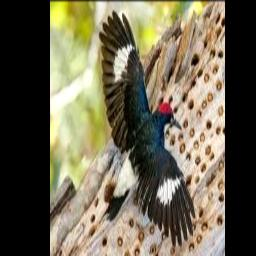Woodpecker: (99, 11, 196, 246)
